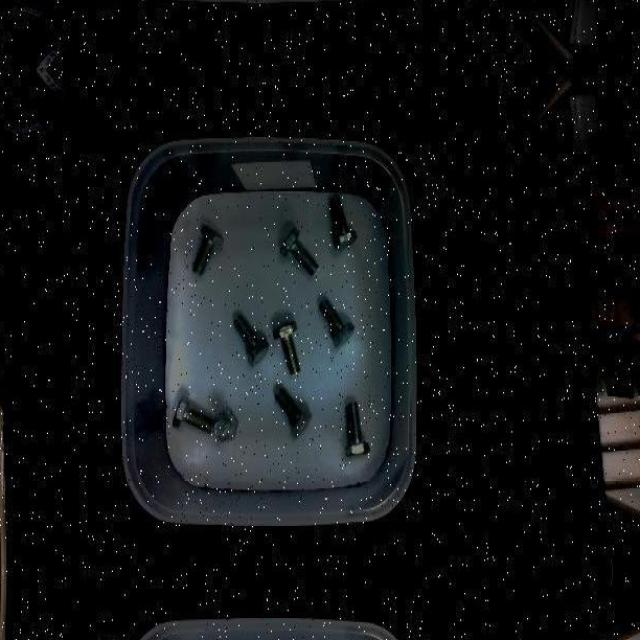screw: (275, 387, 313, 437), (280, 227, 319, 275), (234, 315, 270, 365), (320, 298, 356, 347), (172, 393, 215, 434), (191, 224, 224, 276), (330, 195, 358, 250), (273, 321, 301, 375), (344, 402, 370, 456), (214, 410, 238, 442)
